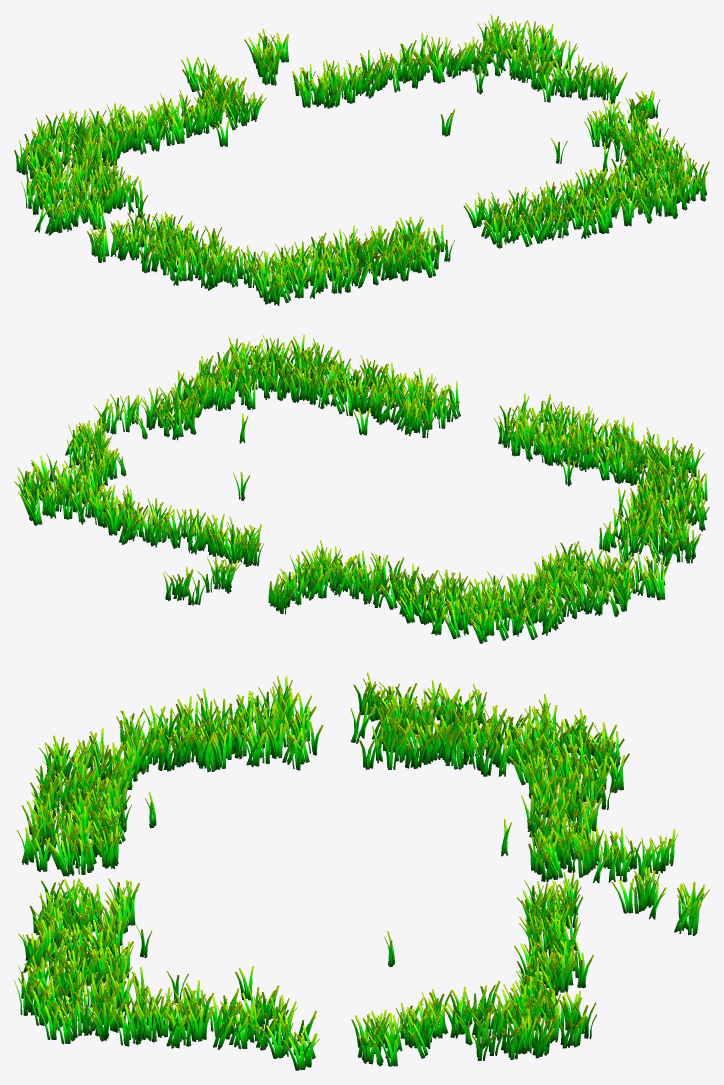
The model's file is hierbas.FBX.
The picture shows the model from 3 angles, top to bottom: view 1: azimuth 30°, elevation 25°; view 2: azimuth 150°, elevation 25°; view 3: azimuth 270°, elevation 25°; orthographic projection. The views are drawn at different scales.
Parts seen in each view (by area): view 1: hierba; view 2: hierba; view 3: hierba.
Boxes of the visible parts, x1,y1,x2,y2 form: hierba: (14, 14, 709, 305); hierba: (14, 334, 709, 643); hierba: (14, 672, 709, 1070).
Size of the model in its own units: 21.02 by 1.19 by 16.94.
